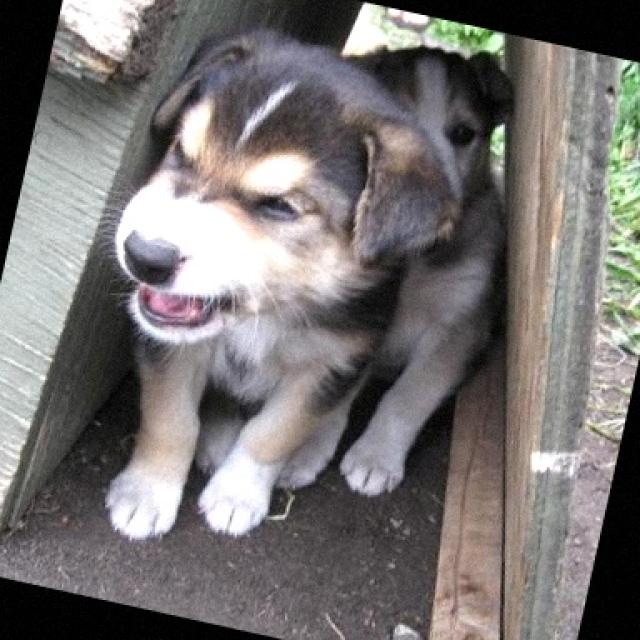angry: (98, 17, 409, 503)
